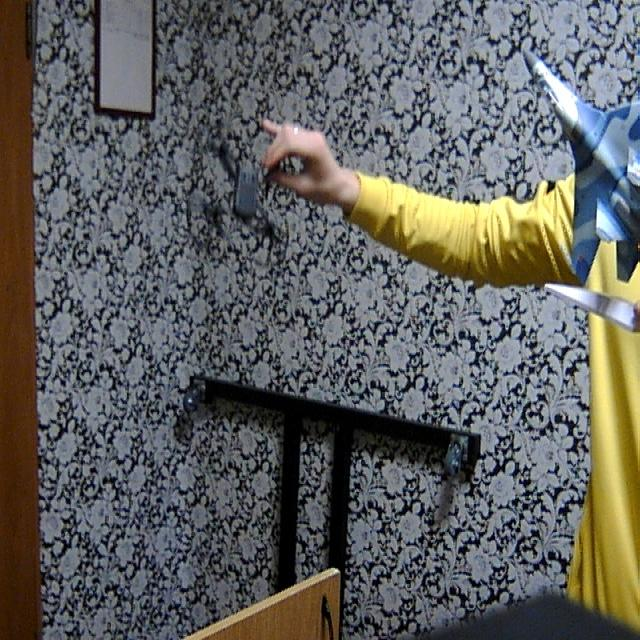drone: (176, 104, 302, 270)
